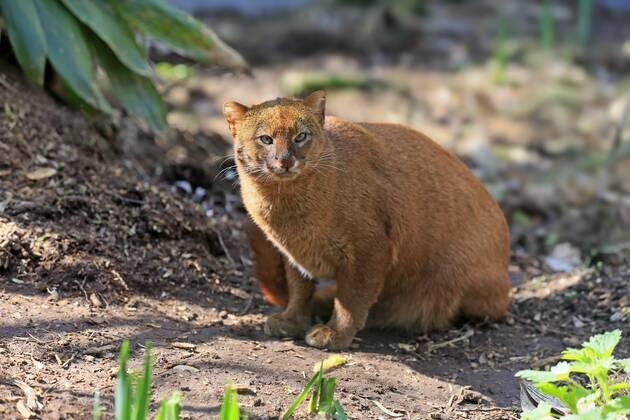Jaguarundi: (215, 81, 525, 353)
